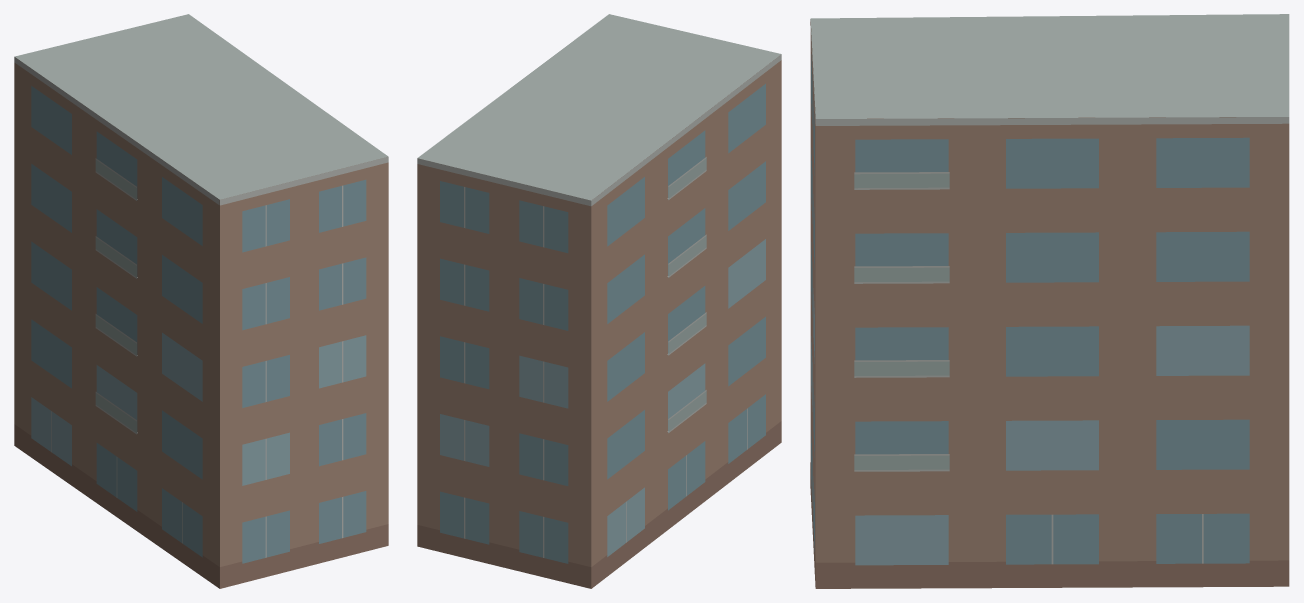
File: survey-upis-32976651.glb
3 views of the same model, side by side, from view 1: azimuth 30°, elevation 25°; view 2: azimuth 150°, elevation 25°; view 3: azimuth 270°, elevation 25° (orthographic). The views are drawn at different scales.
Visible parts, largest first — view 1: survey-upis-32976651.tmp; view 2: survey-upis-32976651.tmp; view 3: survey-upis-32976651.tmp.
Part boxes in pixels (x1,y1,x2,y2): survey-upis-32976651.tmp: (14, 14, 388, 588); survey-upis-32976651.tmp: (417, 14, 781, 588); survey-upis-32976651.tmp: (810, 14, 1289, 588).
Bounding box in the file's own units: 7.88 × 16.38 × 15.14.
